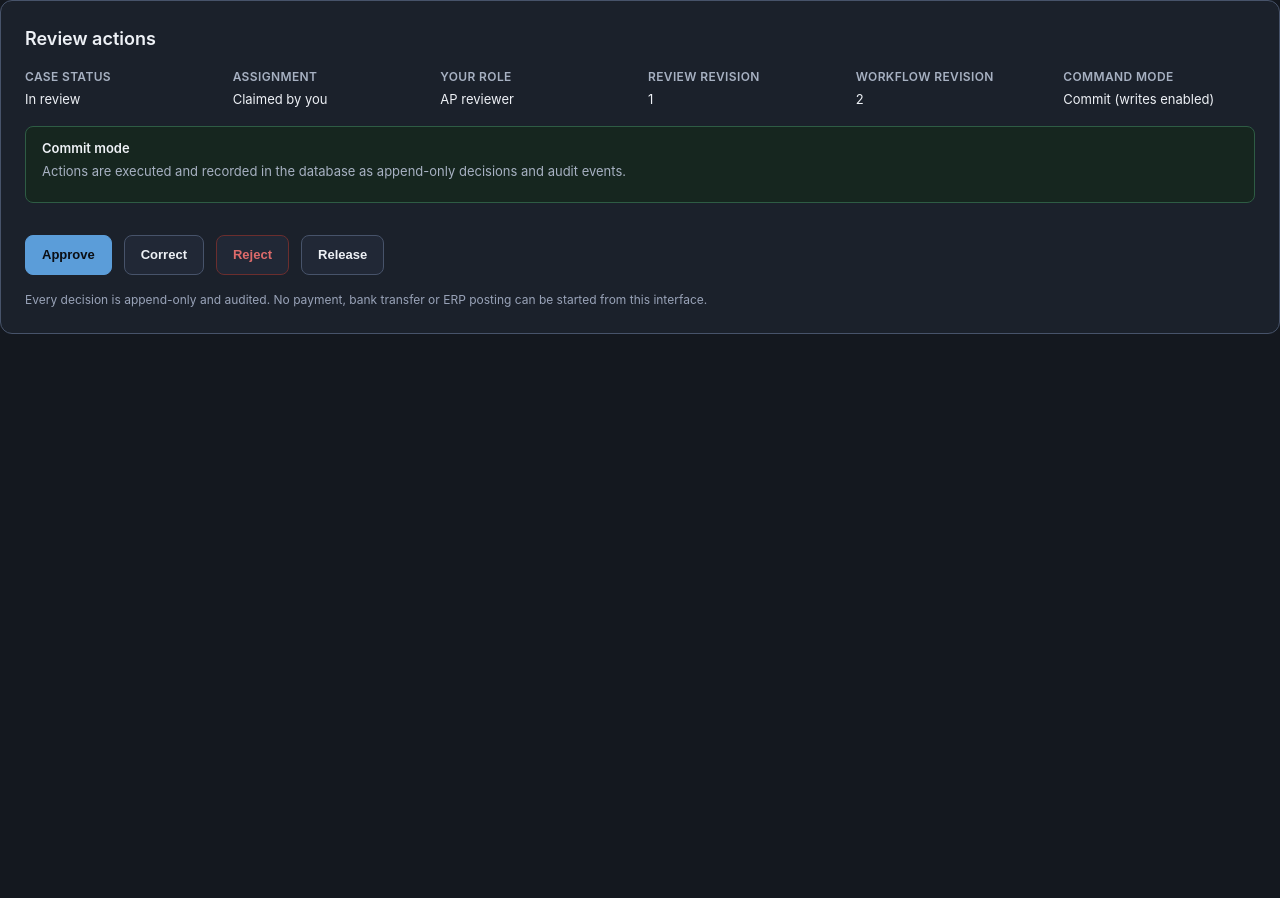
Test: correction editor (task §13) › lets a correction row be removed
Click the button "Correct": (164, 254) [124, 234, 204, 274]
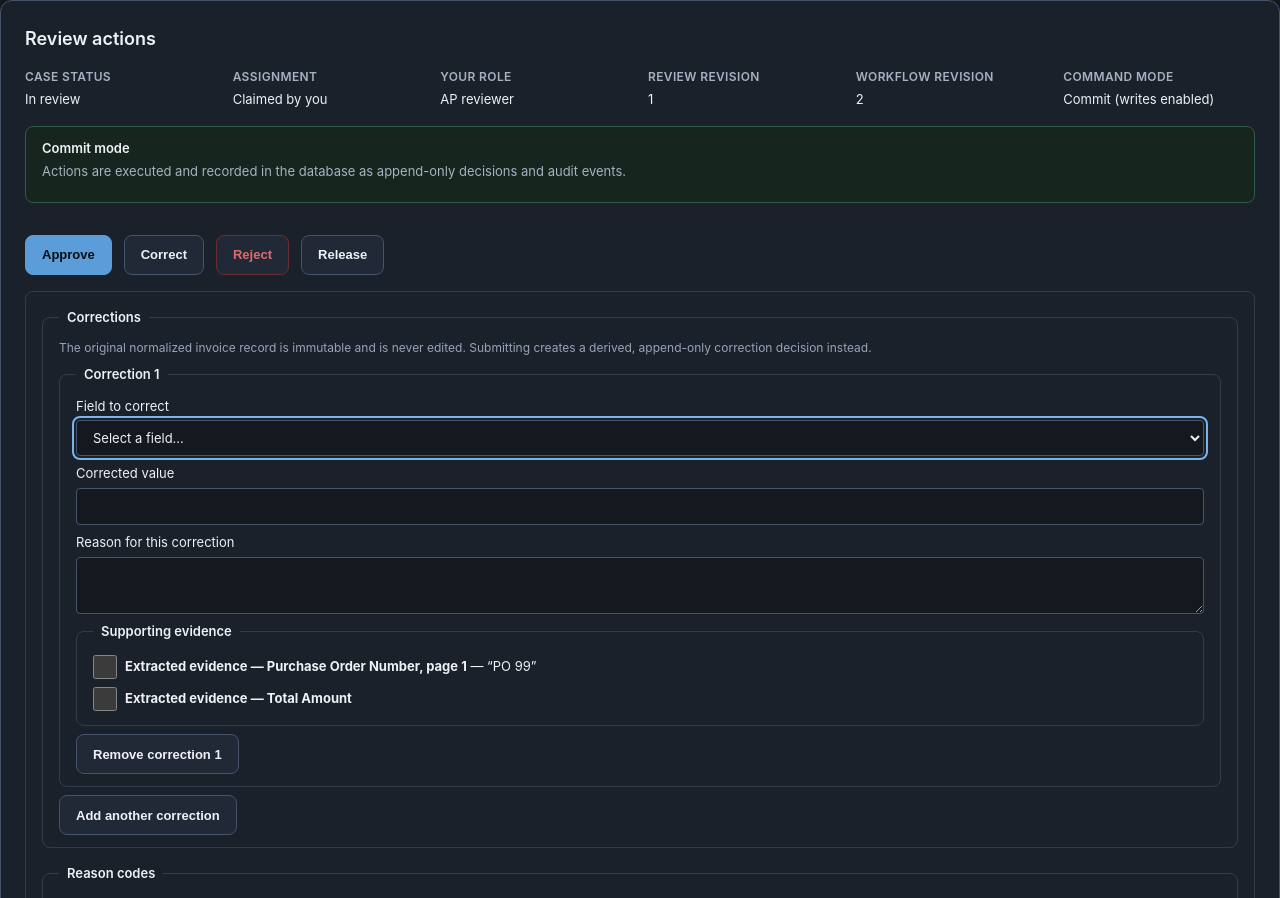
Click the button "Remove correction 1": (157, 754) [76, 734, 239, 774]
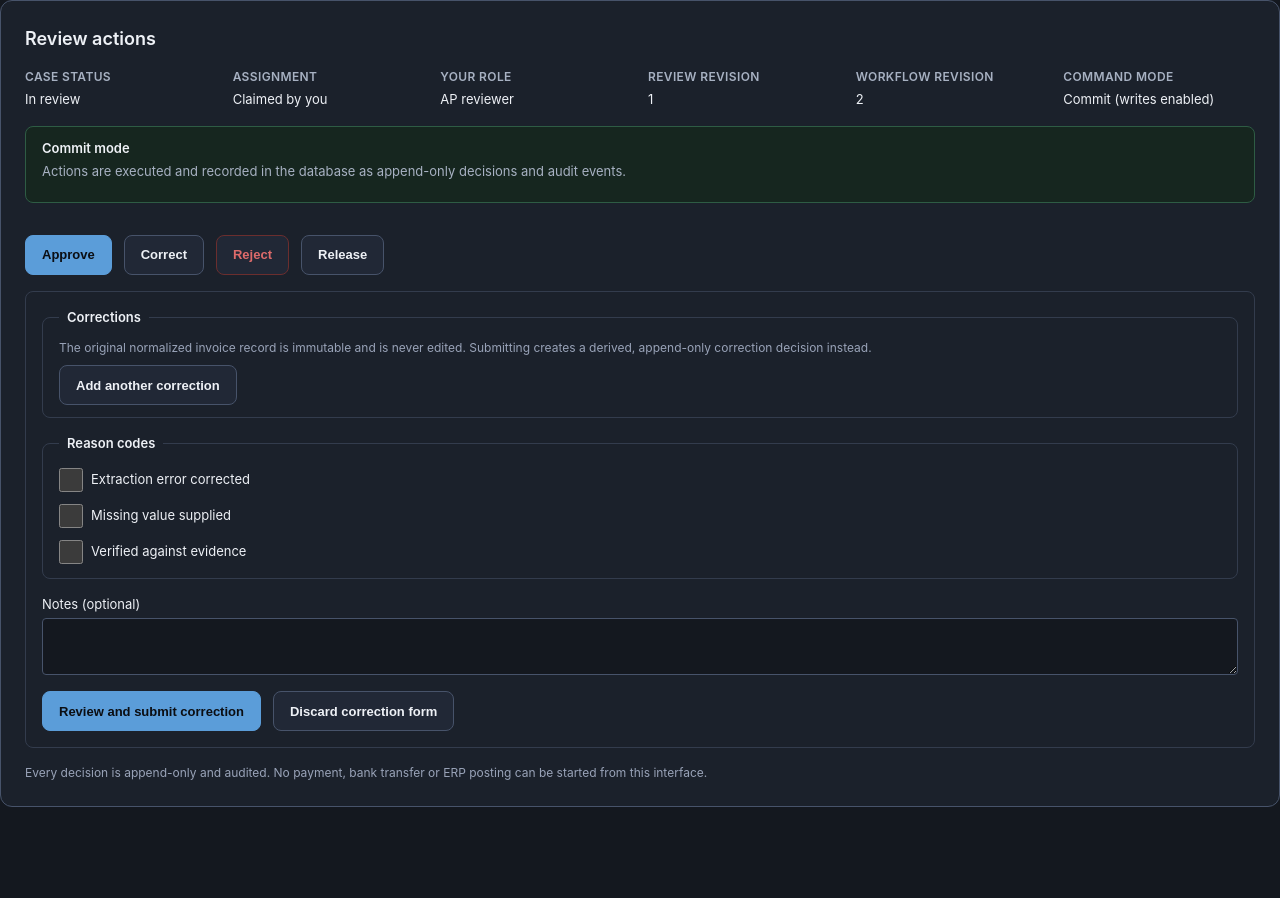
Expected: the element with test id "correction-row-0" is gone
